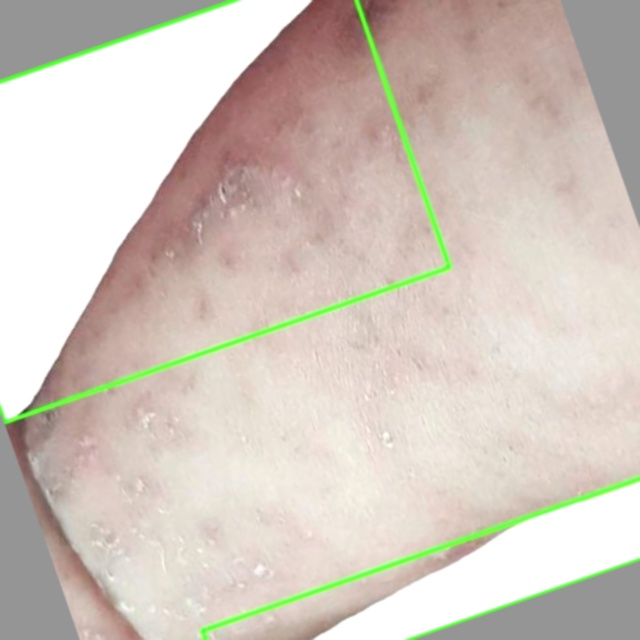Scabies: (0, 0, 450, 421), (202, 479, 639, 639)
